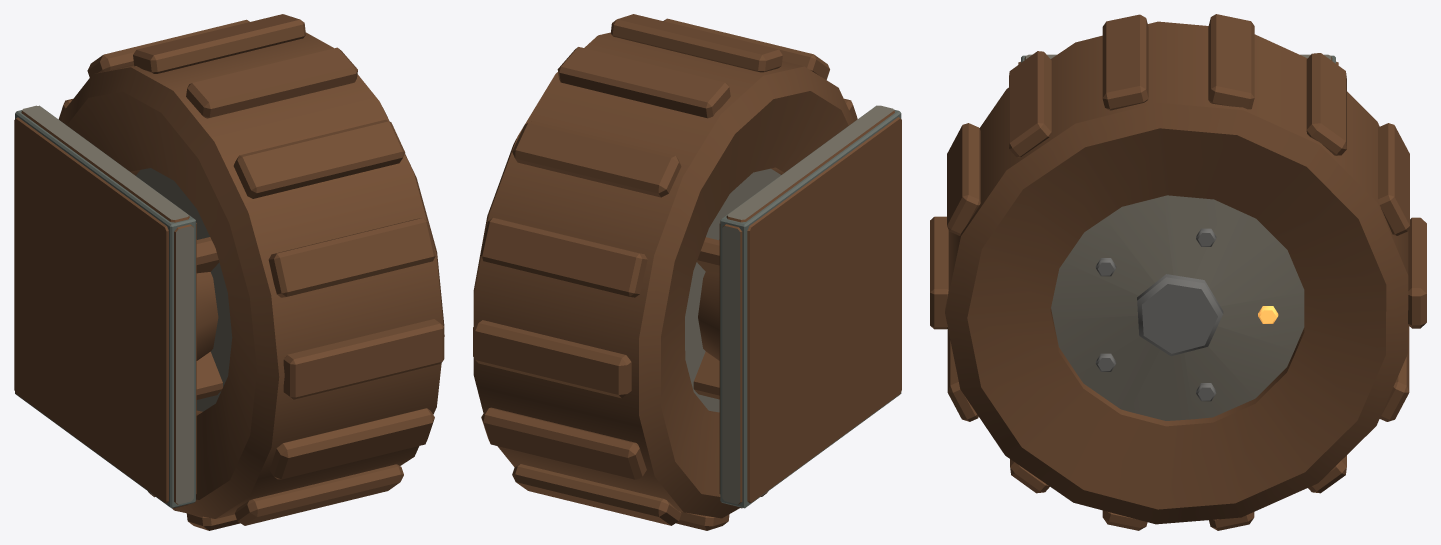
The model's file is R4M_WheelM_Side_Offroad.fbx.
3 renders of one model, left to right at view 1: azimuth 30°, elevation 25°; view 2: azimuth 150°, elevation 25°; view 3: azimuth 270°, elevation 25°, orthographic.
Parts seen in each view (by area): view 1: R4M_WheelM_Side_Offroad_Rotor, R4M_WheelM_Side_Offroad_Mount; view 2: R4M_WheelM_Side_Offroad_Rotor, R4M_WheelM_Side_Offroad_Mount; view 3: R4M_WheelM_Side_Offroad_Rotor.
Part boxes in pixels (left/top/right/bottom): R4M_WheelM_Side_Offroad_Rotor: left=58, top=14, right=444, bottom=530; R4M_WheelM_Side_Offroad_Mount: left=14, top=105, right=222, bottom=508; R4M_WheelM_Side_Offroad_Rotor: left=473, top=14, right=857, bottom=530; R4M_WheelM_Side_Offroad_Mount: left=693, top=105, right=901, bottom=508; R4M_WheelM_Side_Offroad_Rotor: left=930, top=14, right=1426, bottom=530.
Size of the model in its own units: 0.452 by 0.7684 by 0.776.
